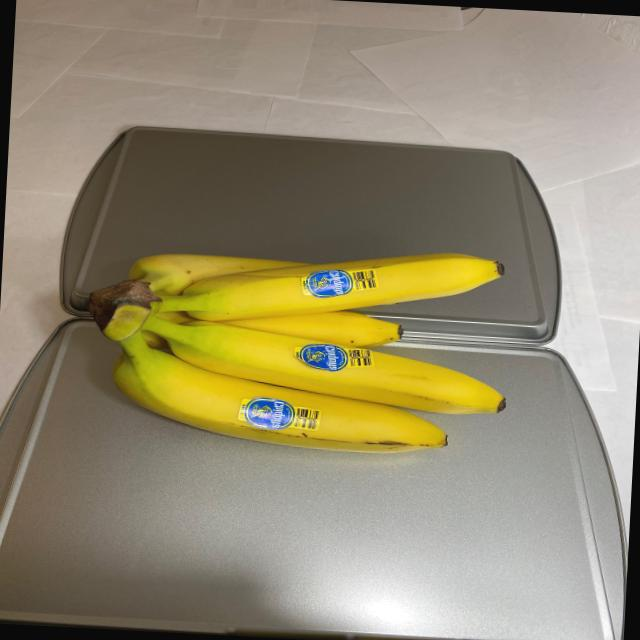banana: (81, 224, 520, 463)
